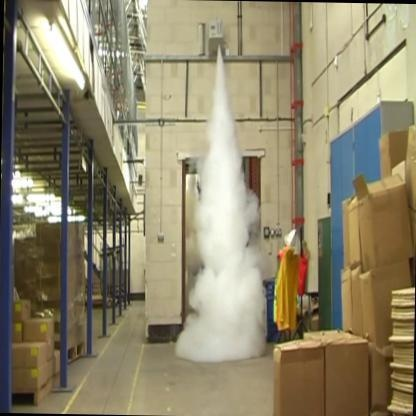smoke: (190, 41, 272, 360)
